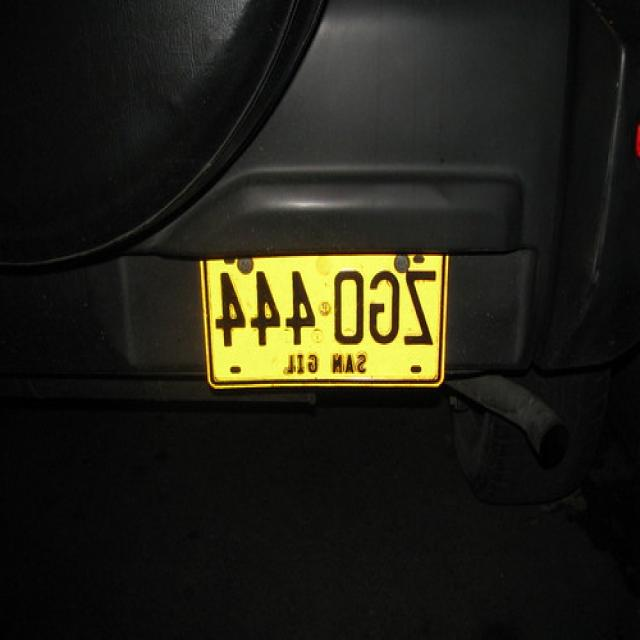placas: (200, 258, 443, 353)
